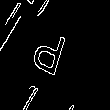P_S: (34, 25, 76, 85)
